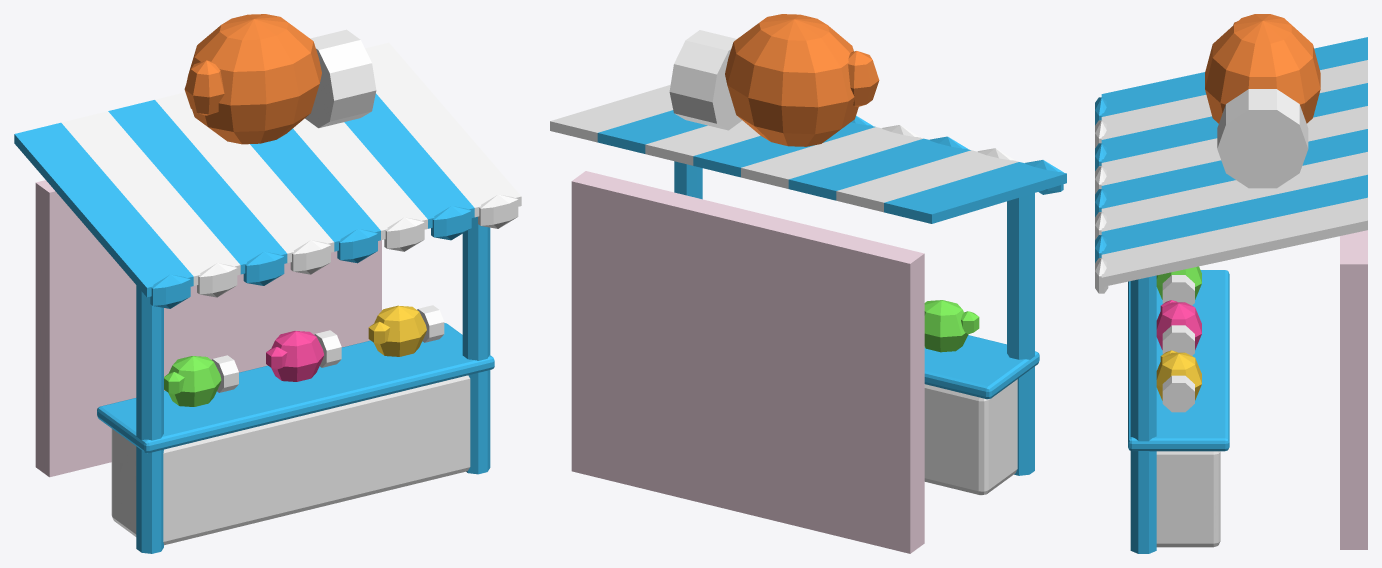
The model's file is glove_stand.fbx.
3 views of the same model, side by side, from view 1: azimuth 30°, elevation 25°; view 2: azimuth 150°, elevation 25°; view 3: azimuth 270°, elevation 25° (orthographic).
Visible parts, largest first — view 1: Back, AwningA, AwningB, Counter, CounterTop, Glove, Posts, Cuff, Gloves3, Gloves2, Gloves1, Cuffs; view 2: Back, Glove, AwningA, AwningB, Counter, Posts, Cuff, CounterTop, Gloves1; view 3: AwningB, AwningA, Back, CounterTop, Glove, Cuff, Posts, Counter, Cuffs, Gloves3, Gloves2, Gloves1.
Boxes of the visible parts, x1=… form: Back: x1=35, y1=180, x2=381, y2=477; AwningA: x1=14, y1=93, x2=474, y2=308; AwningB: x1=61, y1=42, x2=521, y2=297; Counter: x1=111, y1=375, x2=470, y2=545; CounterTop: x1=97, y1=323, x2=494, y2=453; Glove: x1=184, y1=14, x2=321, y2=144; Posts: x1=136, y1=216, x2=490, y2=553; Cuff: x1=305, y1=29, x2=376, y2=128; Gloves3: x1=368, y1=305, x2=426, y2=356; Gloves2: x1=266, y1=331, x2=323, y2=381; Gloves1: x1=164, y1=356, x2=221, y2=406; Cuffs: x1=212, y1=305, x2=444, y2=392; Back: x1=571, y1=171, x2=924, y2=553; Glove: x1=725, y1=14, x2=879, y2=146; AwningA: x1=597, y1=110, x2=1066, y2=223; AwningB: x1=550, y1=85, x2=1018, y2=212; Counter: x1=924, y1=379, x2=1017, y2=495; Posts: x1=674, y1=161, x2=1034, y2=475; Cuff: x1=669, y1=30, x2=742, y2=130; CounterTop: x1=924, y1=335, x2=1039, y2=399; Gloves1: x1=924, y1=300, x2=979, y2=352; AwningB: x1=1095, y1=60, x2=1367, y2=293; AwningA: x1=1095, y1=37, x2=1367, y2=262; Back: x1=1340, y1=230, x2=1367, y2=549; CounterTop: x1=1128, y1=270, x2=1229, y2=451; Glove: x1=1205, y1=14, x2=1320, y2=123; Cuff: x1=1217, y1=89, x2=1308, y2=188; Posts: x1=1130, y1=275, x2=1156, y2=553; Counter: x1=1156, y1=451, x2=1220, y2=547; Cuffs: x1=1162, y1=275, x2=1194, y2=412; Gloves3: x1=1156, y1=350, x2=1201, y2=400; Gloves2: x1=1156, y1=300, x2=1201, y2=349; Gloves1: x1=1156, y1=266, x2=1201, y2=299.
Bounding box in the file's own units: 12.4 × 14.1 × 7.79.
